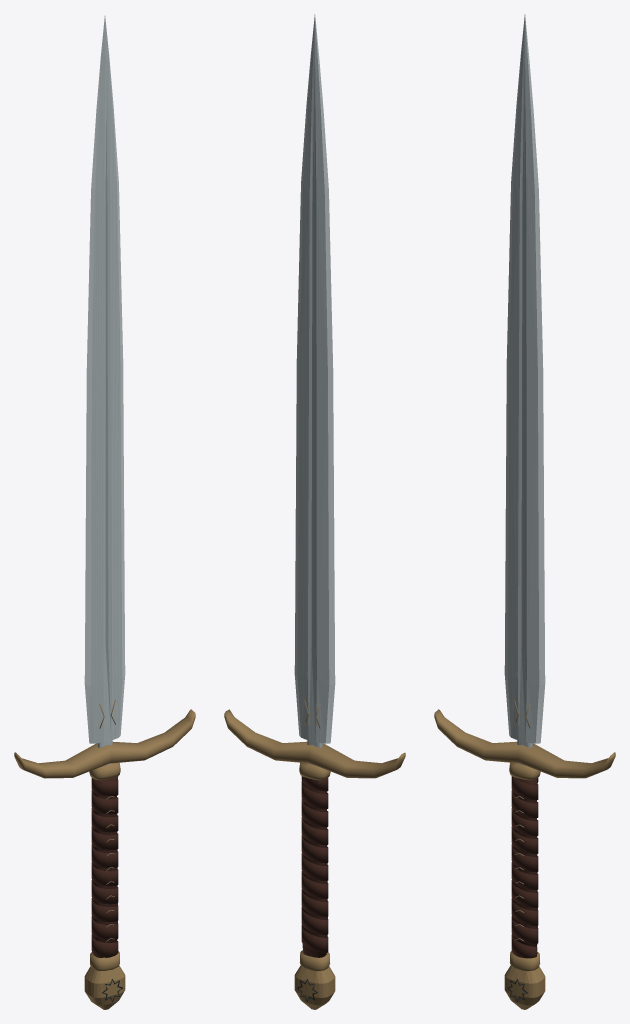
Rendered from sword_lod1.glb.
3 views of the same model, side by side, from view 1: azimuth 30°, elevation 25°; view 2: azimuth 150°, elevation 25°; view 3: azimuth 330°, elevation 25° (orthographic).
Parts seen in each view (by area): view 1: SwordMesh_LOD1; view 2: SwordMesh_LOD1; view 3: SwordMesh_LOD1.
Boxes of the visible parts, <box> form: SwordMesh_LOD1: <box>14,15,195,1009</box>; SwordMesh_LOD1: <box>224,14,405,1009</box>; SwordMesh_LOD1: <box>434,14,615,1009</box>.
Size of the model in its own units: 0.246 by 1.33 by 0.0384.
Materials: 7 (3 with a texture image).
